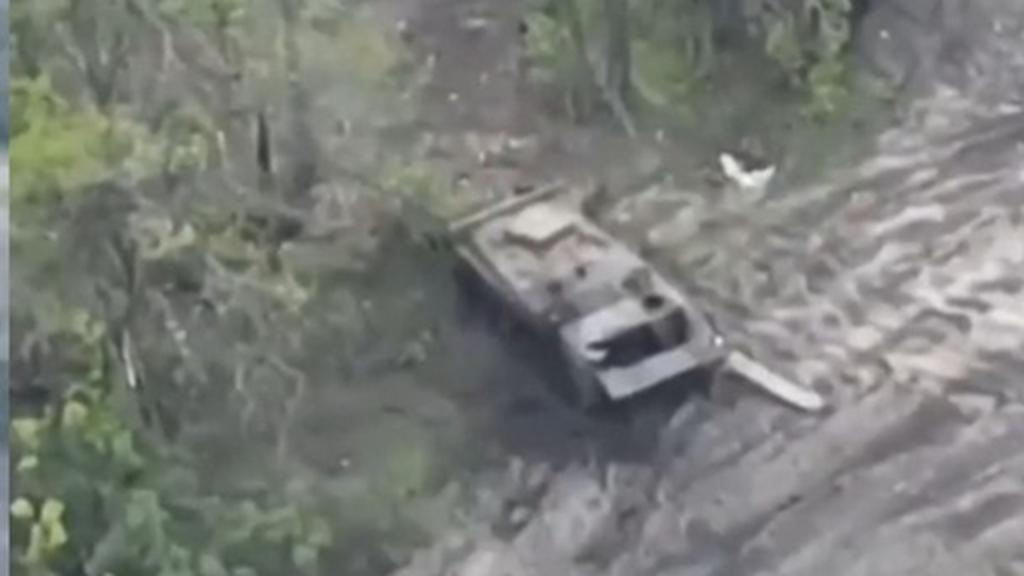APC-IFV: (430, 170, 722, 412)
